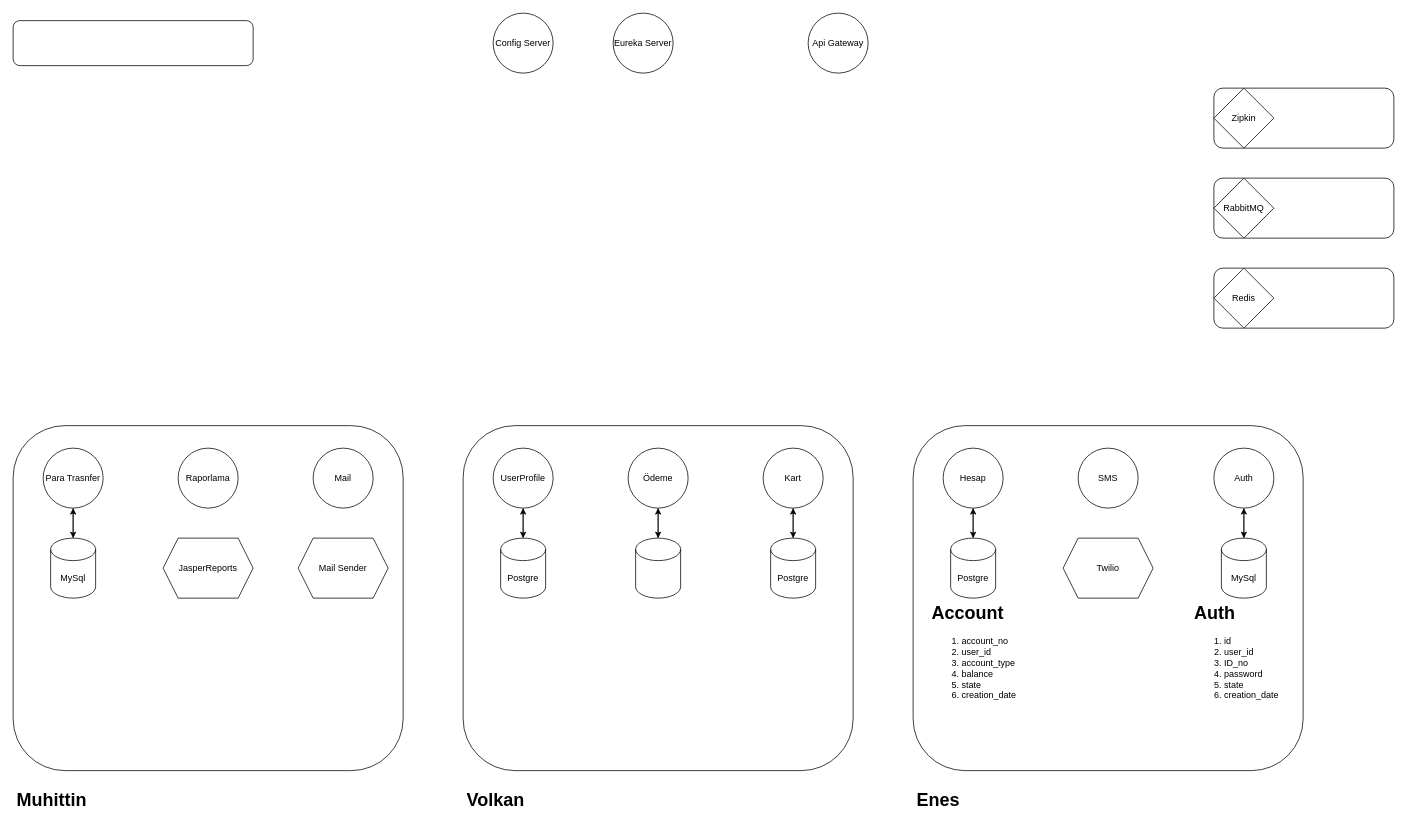
Image size: 1407x829. Some labels were removed from this diagram. The shapes that lost their labels are listed below. From the top down, each one's centre as x and y in pixels, then its label:
At (x=132, y=43): "VEM Finance Solutions vembanking@gmail.com Vem123456.".
At (x=658, y=567): "Mongo".
